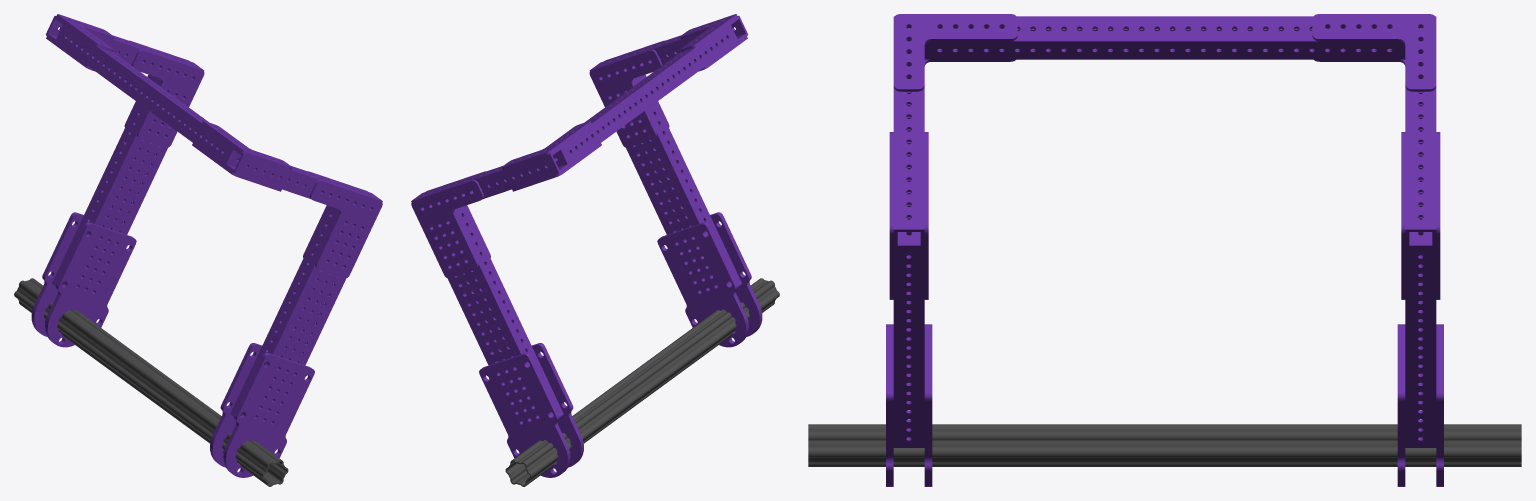
3 renders of one model, left to right at view 1: azimuth 30°, elevation 25°; view 2: azimuth 150°, elevation 25°; view 3: azimuth 270°, elevation 25°, orthographic. The views are drawn at different scales.
Parts seen in each view (by area): view 1: 0504 - Placa Holder Perfil 2x2 (×4), 0511 - Perfil 2x1 14" (×2), SplineXL Tube (WCP-0918), 0515 - L Dracula version Spectrum (×2), 0513 - Perfil 1x1 16.75", 0512 - Perfil 1x1 6" (×2), 0516 - L Dracula 1x1 Version spectrum (×2); view 2: 0504 - Placa Holder Perfil 2x2 (×4), 0511 - Perfil 2x1 14" (×2), SplineXL Tube (WCP-0918), 0515 - L Dracula version Spectrum (×2), 0513 - Perfil 1x1 16.75", 0512 - Perfil 1x1 6" (×2), 0516 - L Dracula 1x1 Version spectrum (×2); view 3: SplineXL Tube (WCP-0918), 0513 - Perfil 1x1 16.75", 0511 - Perfil 2x1 14" (×2), 0512 - Perfil 1x1 6" (×2), 0516 - L Dracula 1x1 Version spectrum (×2), 0504 - Placa Holder Perfil 2x2 (×4), 0515 - L Dracula version Spectrum (×4).
Boxes of the visible parts, <box> form: 0504 - Placa Holder Perfil 2x2 (×4): <box>31,212,314,477</box>; 0511 - Perfil 2x1 14" (×2): <box>52,75,362,416</box>; SplineXL Tube (WCP-0918): <box>14,278,288,486</box>; 0515 - L Dracula version Spectrum (×2): <box>131,49,382,278</box>; 0513 - Perfil 1x1 16.75": <box>56,23,238,165</box>; 0512 - Perfil 1x1 6" (×2): <box>45,16,382,209</box>; 0516 - L Dracula 1x1 Version spectrum (×2): <box>56,14,292,169</box>; 0504 - Placa Holder Perfil 2x2 (×4): <box>479,212,762,477</box>; 0511 - Perfil 2x1 14" (×2): <box>431,75,741,416</box>; SplineXL Tube (WCP-0918): <box>505,278,779,486</box>; 0515 - L Dracula version Spectrum (×2): <box>411,49,662,278</box>; 0513 - Perfil 1x1 16.75": <box>555,23,737,165</box>; 0512 - Perfil 1x1 6" (×2): <box>411,16,748,209</box>; 0516 - L Dracula 1x1 Version spectrum (×2): <box>501,14,737,169</box>; SplineXL Tube (WCP-0918): <box>808,424,1521,466</box>; 0513 - Perfil 1x1 16.75": <box>924,16,1405,59</box>; 0511 - Perfil 2x1 14" (×2): <box>893,233,1436,447</box>; 0512 - Perfil 1x1 6" (×2): <box>893,16,1436,247</box>; 0516 - L Dracula 1x1 Version spectrum (×2): <box>893,14,1436,91</box>; 0504 - Placa Holder Perfil 2x2 (×4): <box>886,324,1443,486</box>; 0515 - L Dracula version Spectrum (×4): <box>889,132,1440,299</box>.
Bounding box in the file's own units: 0.2163 × 0.4199 × 0.5842.
